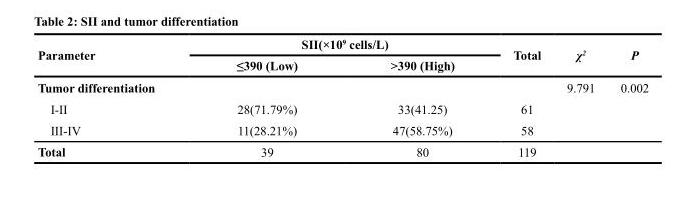table: (37, 36, 648, 158)
table column: (37, 36, 195, 158), (195, 36, 343, 158), (343, 36, 483, 158), (483, 36, 553, 158), (553, 36, 607, 158), (607, 36, 648, 158)
table column header: (37, 36, 648, 76)
table row: (37, 54, 648, 76), (37, 76, 648, 98), (37, 98, 648, 119), (37, 119, 648, 140), (37, 36, 648, 54), (37, 140, 648, 158)
table spanning cell: (37, 36, 195, 76), (195, 36, 483, 54), (483, 36, 553, 76), (553, 36, 607, 76), (607, 36, 648, 76)
